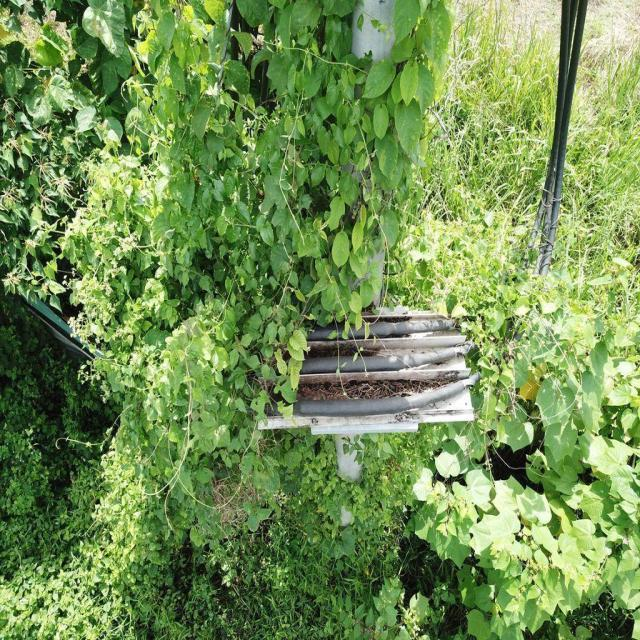critical vegetation: (160, 54, 473, 431)
